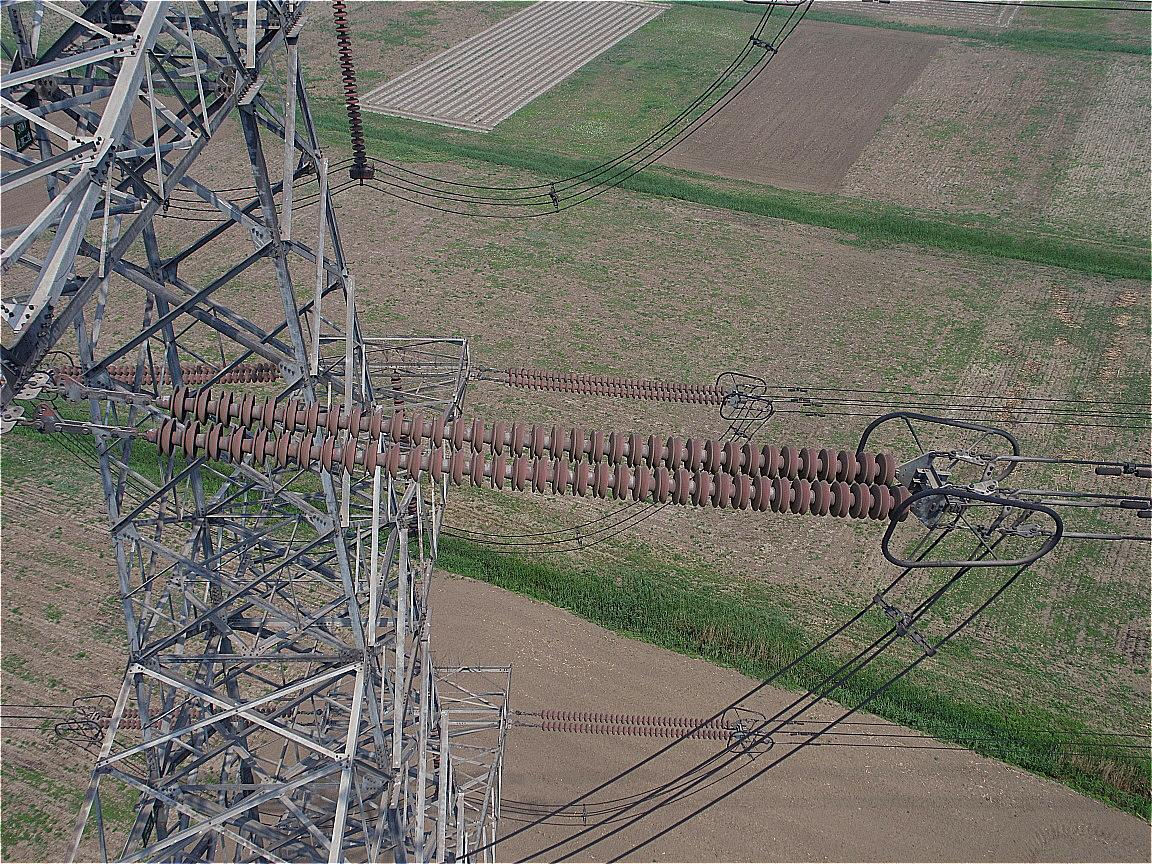insultor1: (508, 366, 729, 405), (540, 707, 735, 742)
insultor2: (155, 384, 912, 524)
